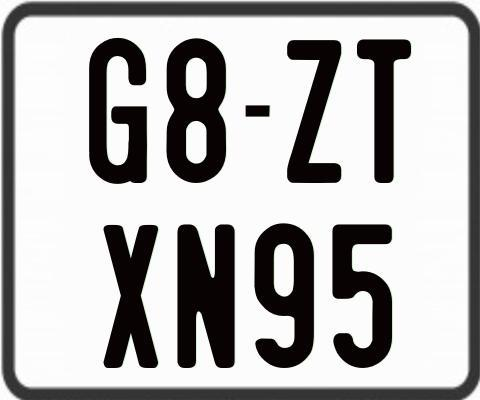5: (330, 223, 396, 367)
8: (165, 36, 227, 187)
9: (251, 222, 315, 373)
G: (89, 35, 153, 185)
N: (174, 223, 237, 372)
T: (354, 37, 411, 182)
X: (102, 225, 156, 370)
Z: (284, 39, 339, 188)
